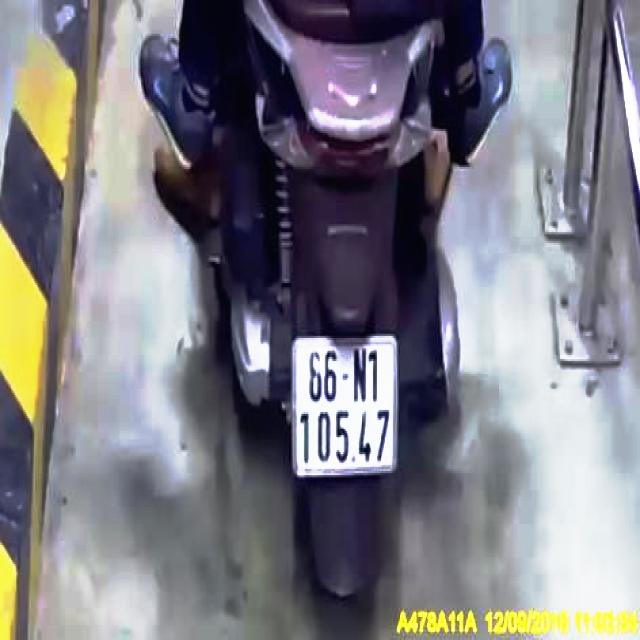license_plate: (296, 339, 399, 473)
